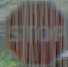Stop: (4, 4, 64, 56)
